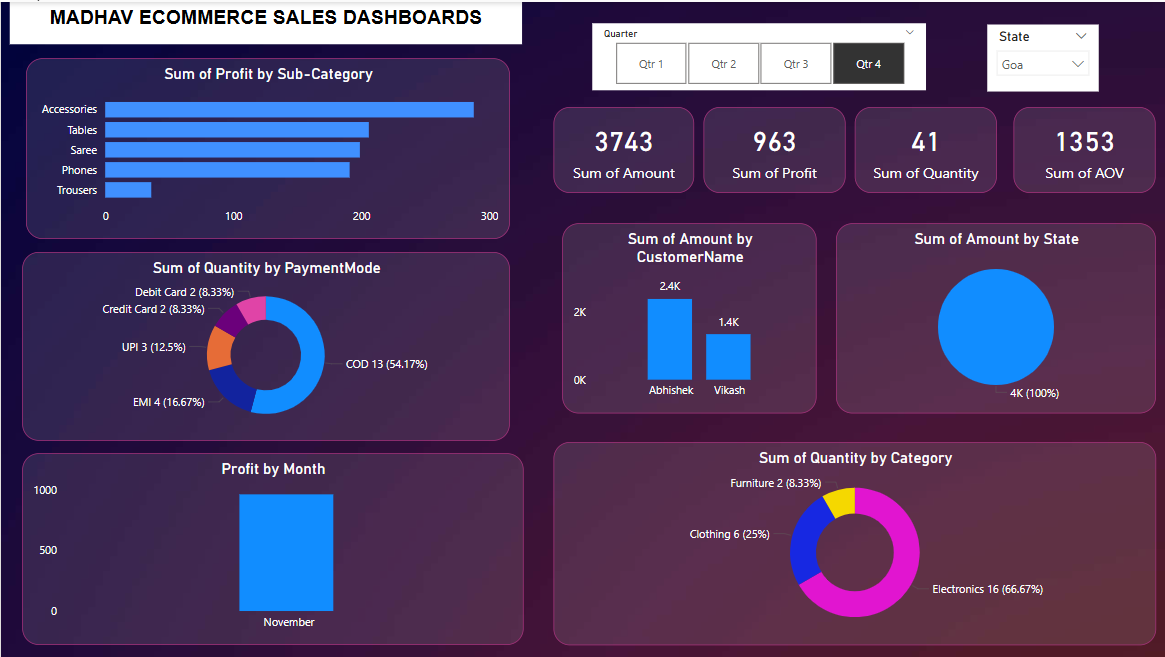

The dashboard page shown, as its layout file describes it:
{"tool":"powerbi","page":{"name":"Page 1","canvas":[1280,720],"ordinal":0},"visuals":[{"type":"textbox","box":[10.2,0,562.5,46],"z":0},{"type":"columnChart","title":" Profit by Month","fields":{"Y":["Details.Profit"],"Category":["Orders.Order Date.Variation.Date Hierarchy.Month"]},"box":[23.5,495.6,550,210.3],"z":1000},{"type":"barChart","fields":{"Category":["Details.Sub-Category"],"Y":["Details.Profit"]},"box":[27.9,61.8,530.9,198.5],"z":2000},{"type":"donutChart","fields":{"Category":["Details.Category"],"Y":["Details.Quantity"]},"box":[605.9,482.4,661.8,223.5],"z":3000},{"type":"donutChart","fields":{"Category":["Details.PaymentMode"],"Y":["Details.Quantity"]},"box":[23.5,275,535.3,207.4],"z":4000},{"type":"card","fields":{"Values":["Details.Amount"]},"box":[605.9,114.7,154.4,94.1],"z":5000},{"type":"card","fields":{"Values":["Details.Profit"]},"box":[770.6,114.7,155.9,94.1],"z":6000},{"type":"card","fields":{"Values":["Details.Quantity"]},"box":[936.8,114.7,155.9,94.1],"z":7000},{"type":"card","fields":{"Values":["Details.AOV"]},"box":[1111.8,114.7,155.9,94.1],"z":8000},{"type":"pieChart","fields":{"Category":["Orders.State"],"Y":["Details.Amount"]},"box":[916.2,242.6,351.5,208.8],"z":9000},{"type":"columnChart","fields":{"Category":["Orders.CustomerName"],"Y":["Details.Amount"]},"box":[616.2,242.6,279.4,208.8],"z":10000},{"type":"slicer","fields":{"Values":["Orders.Order Date.Variation.Date Hierarchy.Quarter"]},"box":[648.5,23.5,366.2,73.5],"z":11000},{"type":"slicer","fields":{"Values":["Orders.State"]},"box":[1082.4,25,122.1,73.5],"z":12000}]}

Visuals, with their boxes in screenshot pixels (x1, y1, x2, y2), scaled from the page's 1280x720 canvas onto the 1165x657 screenshot:
textbox: box(9, 0, 521, 42)
" Profit by Month" columnChart: box(21, 452, 522, 644)
barChart - Details.Sub-Category x Details.Profit: box(25, 56, 509, 238)
donutChart - Details.Category x Details.Quantity: box(551, 440, 1154, 644)
donutChart - Details.PaymentMode x Details.Quantity: box(21, 251, 509, 440)
card - Details.Amount: box(551, 105, 692, 191)
card - Details.Profit: box(701, 105, 843, 191)
card - Details.Quantity: box(853, 105, 995, 191)
card - Details.AOV: box(1012, 105, 1154, 191)
pieChart - Orders.State x Details.Amount: box(834, 221, 1154, 412)
columnChart - Orders.CustomerName x Details.Amount: box(561, 221, 815, 412)
slicer - Orders.Order Date.Variation.Date Hierarchy.Quarter: box(590, 21, 924, 89)
slicer - Orders.State: box(985, 23, 1096, 90)
